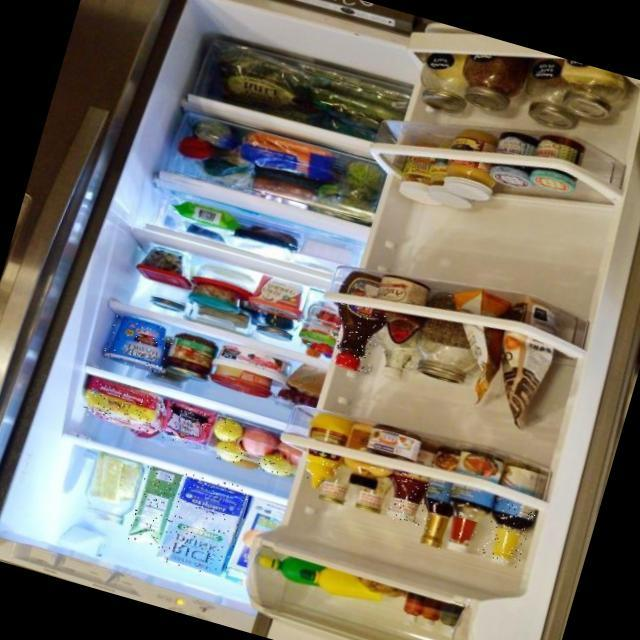Manzana: (239, 426, 279, 459)
Yogur: (101, 312, 174, 374)
